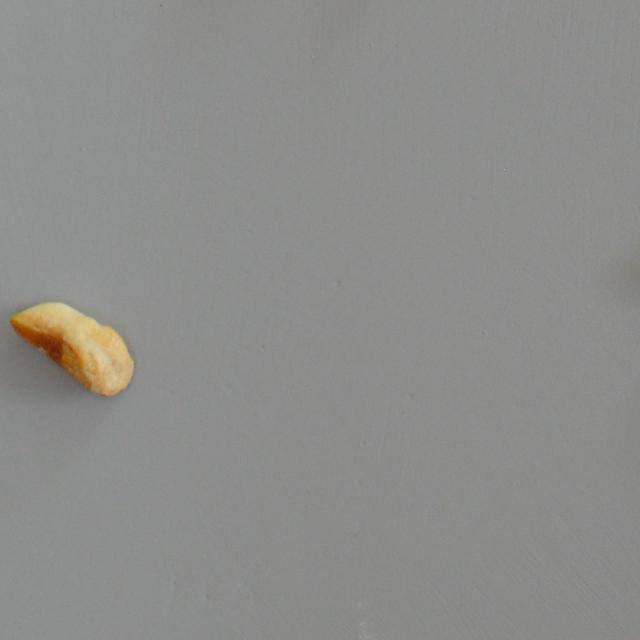dañado: (8, 300, 140, 402)
